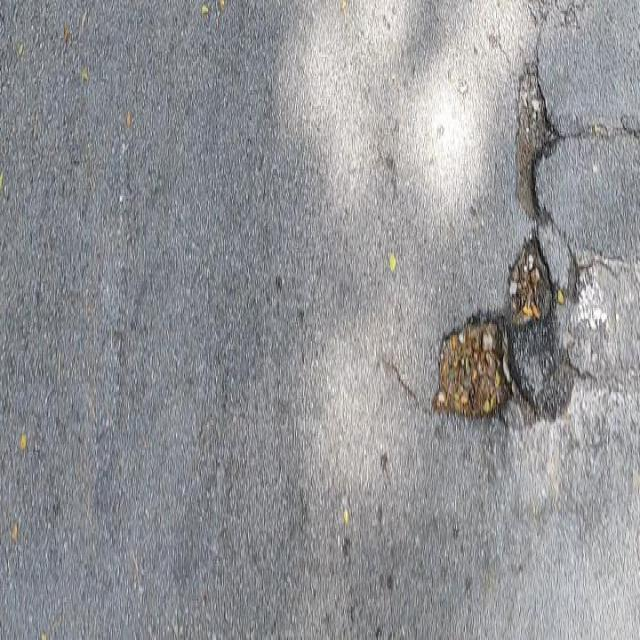potholes: (396, 9, 640, 480)
